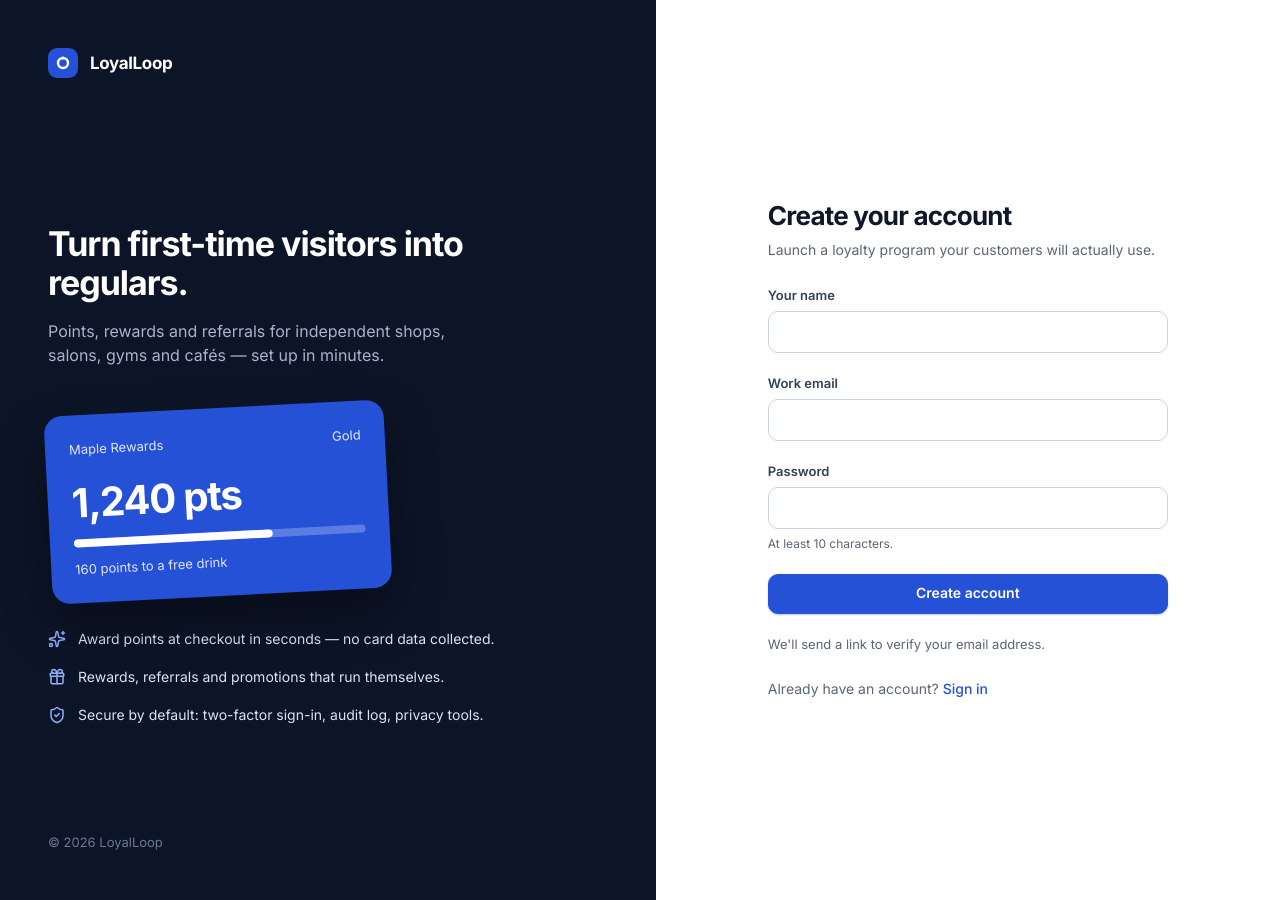
Test case: form validation feedback › sign up enforces password length
The width and height of the screenshot is (1280, 900).
Type "Pat" into the field labelled "Your name" at [968, 332], box [768, 311, 1168, 353]
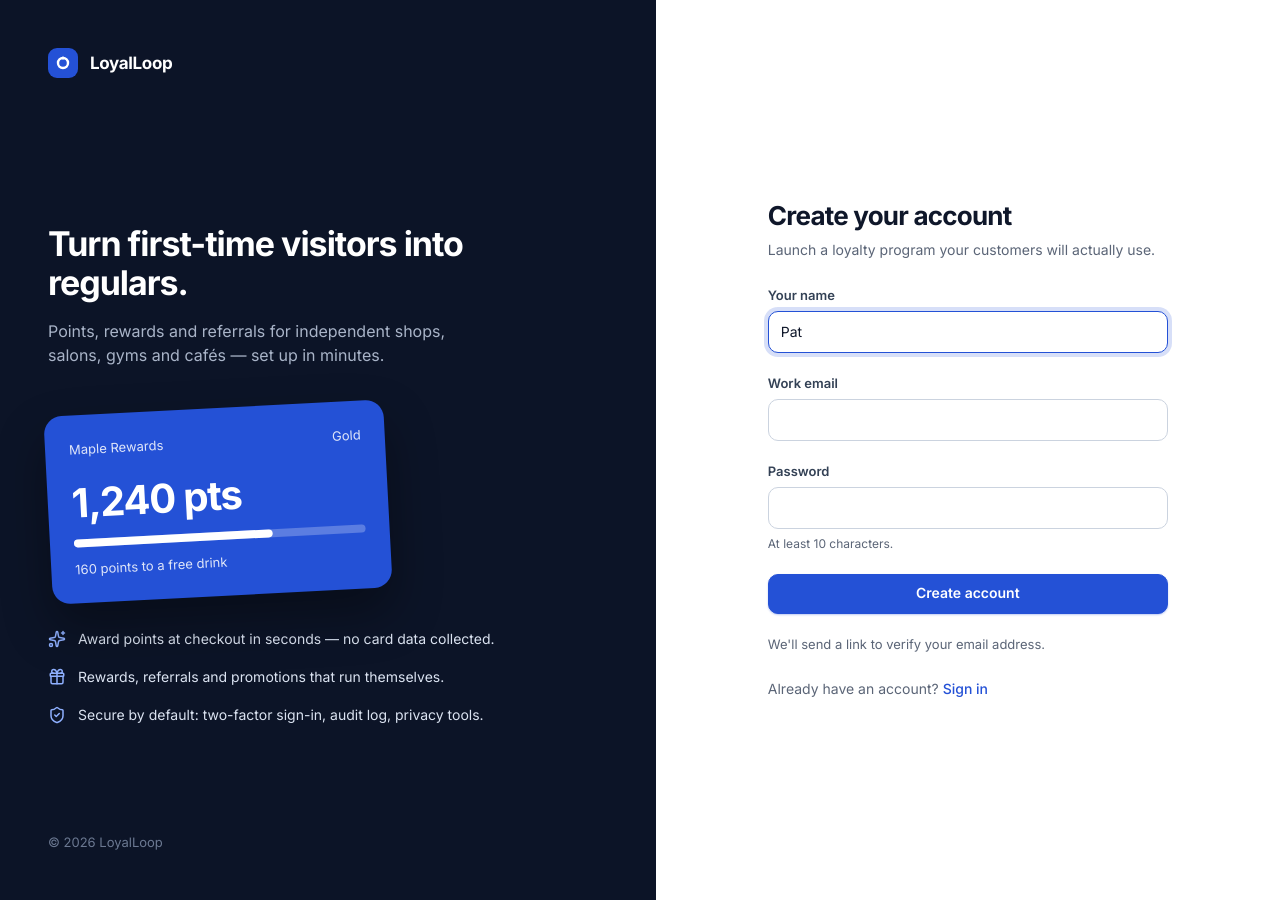
Type "pat@example.com" into the field labelled "Work email" at [968, 420], box [768, 399, 1168, 441]
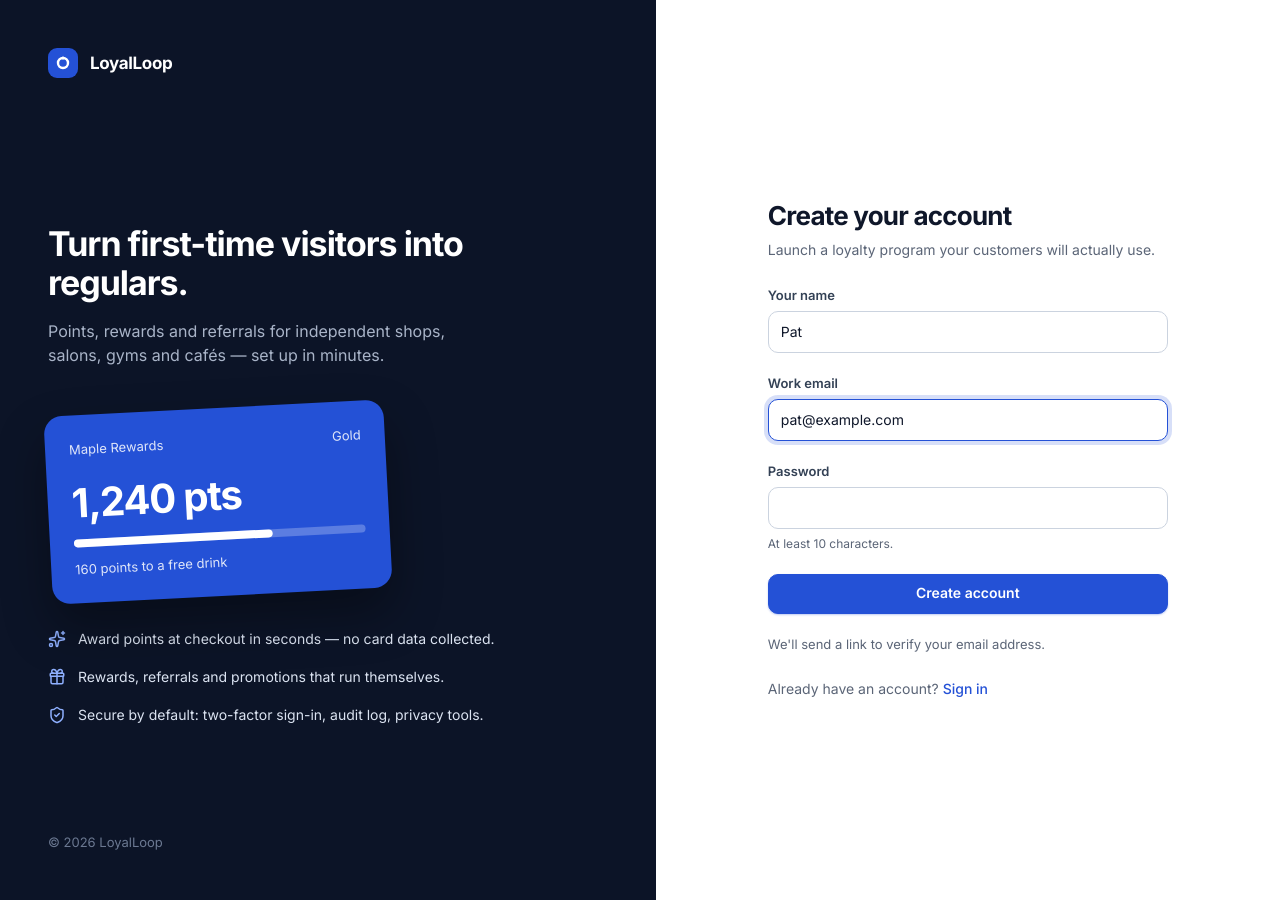
Type "short" into the password field labelled "Password" at [968, 508], box [768, 487, 1168, 529]
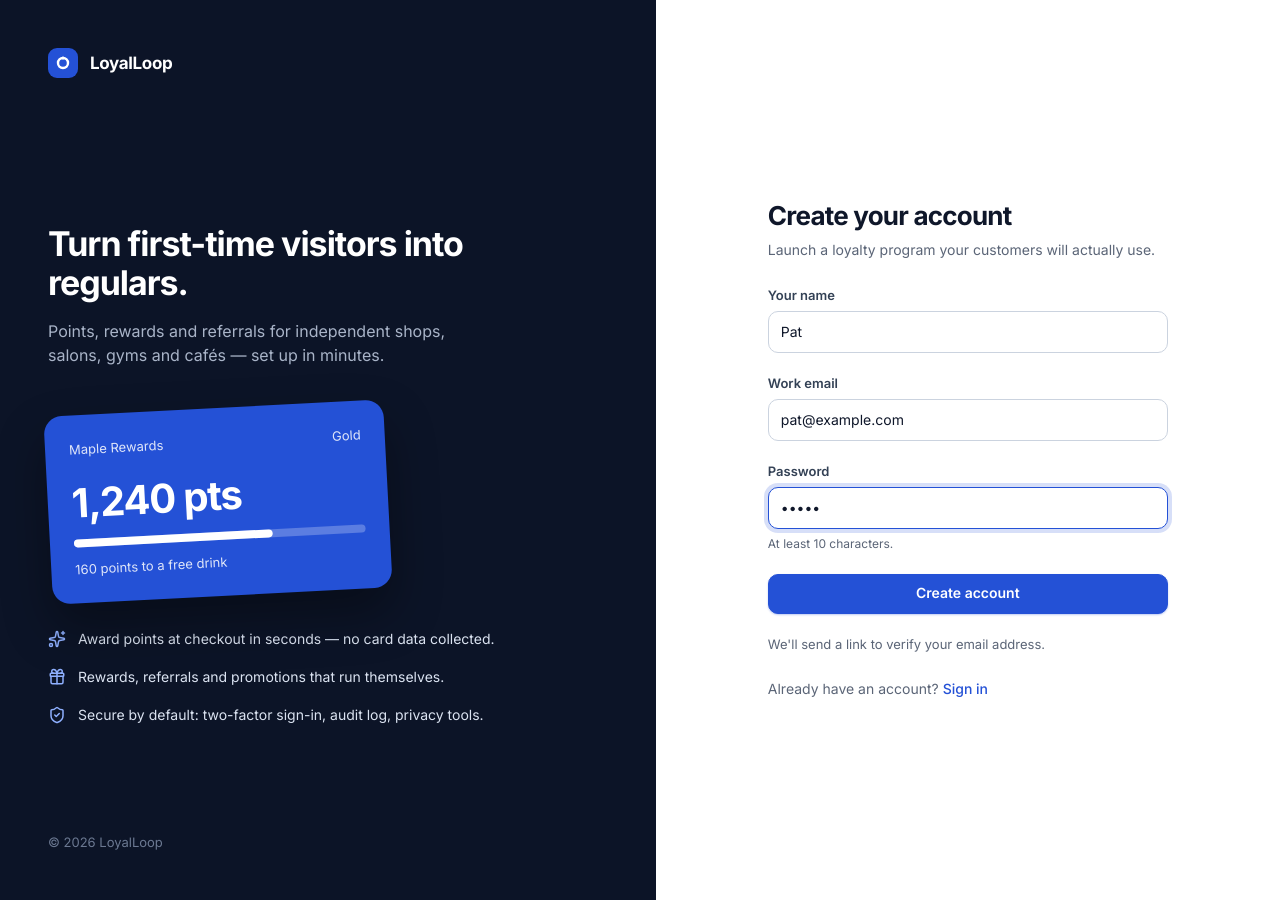
Click the button "Create account" at [968, 594], box [768, 574, 1168, 614]
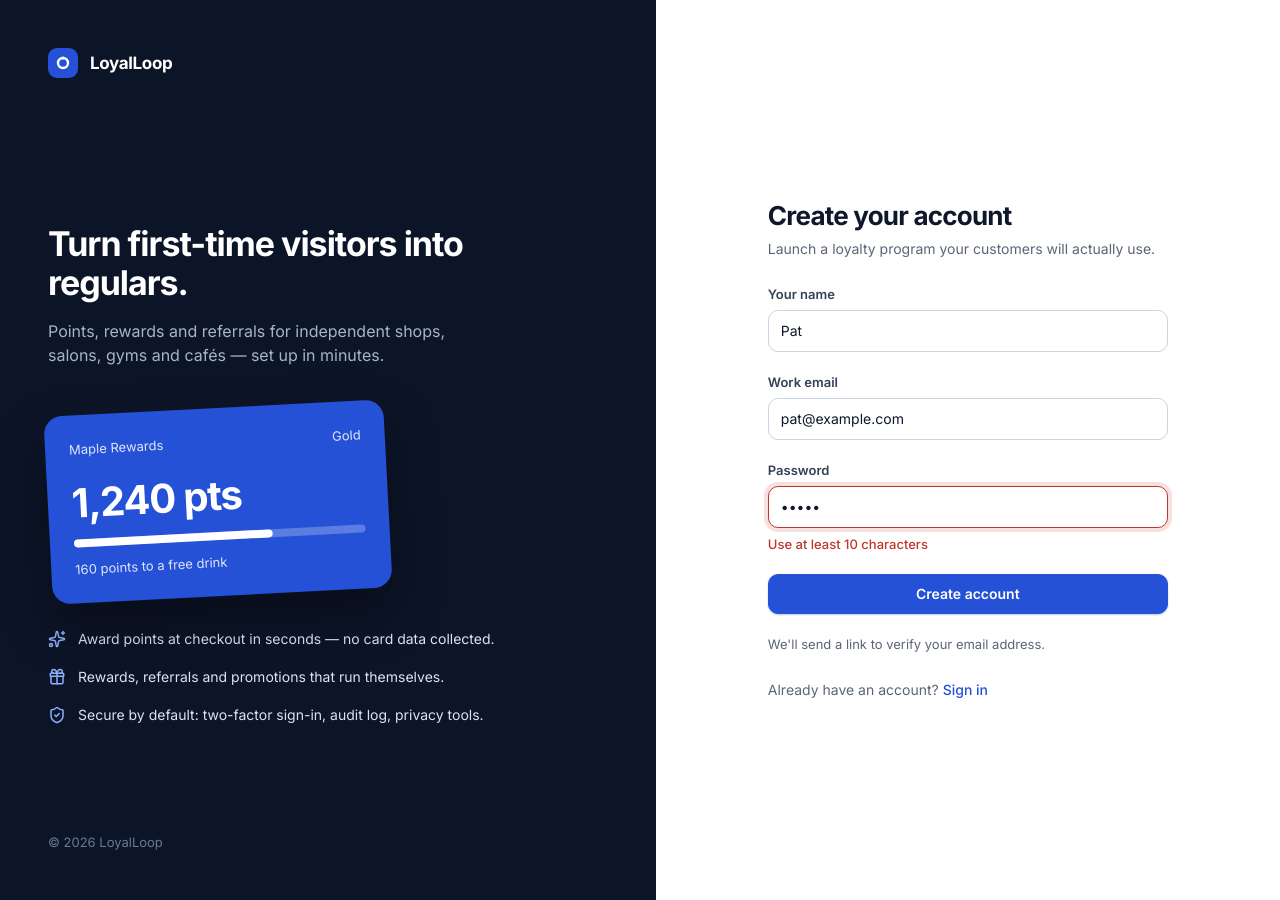
Expected: the text "Use at least 10 characters" is shown, [768, 536, 928, 552]
